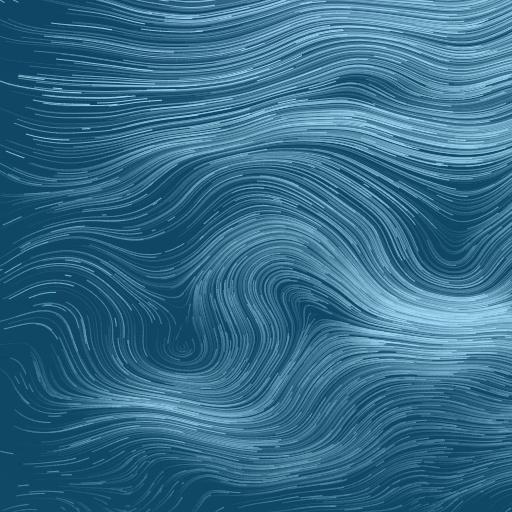eddy: (169, 333, 196, 357)
